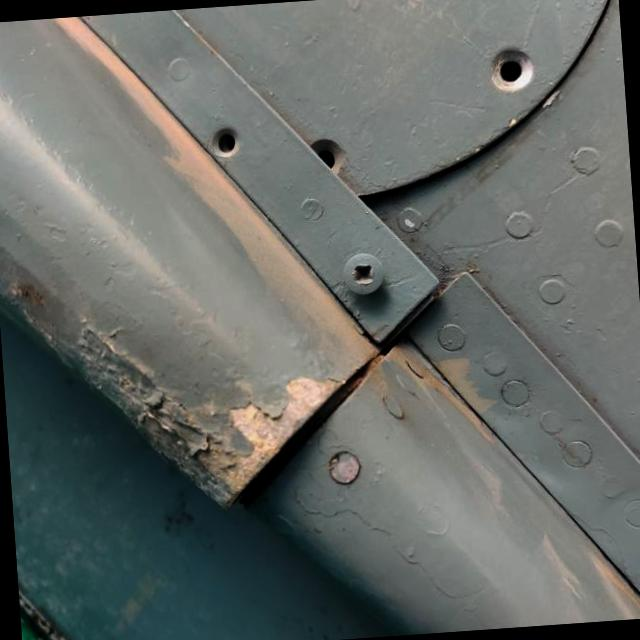Missing Fastener: (490, 46, 536, 92), (310, 136, 344, 174), (209, 126, 238, 158)
